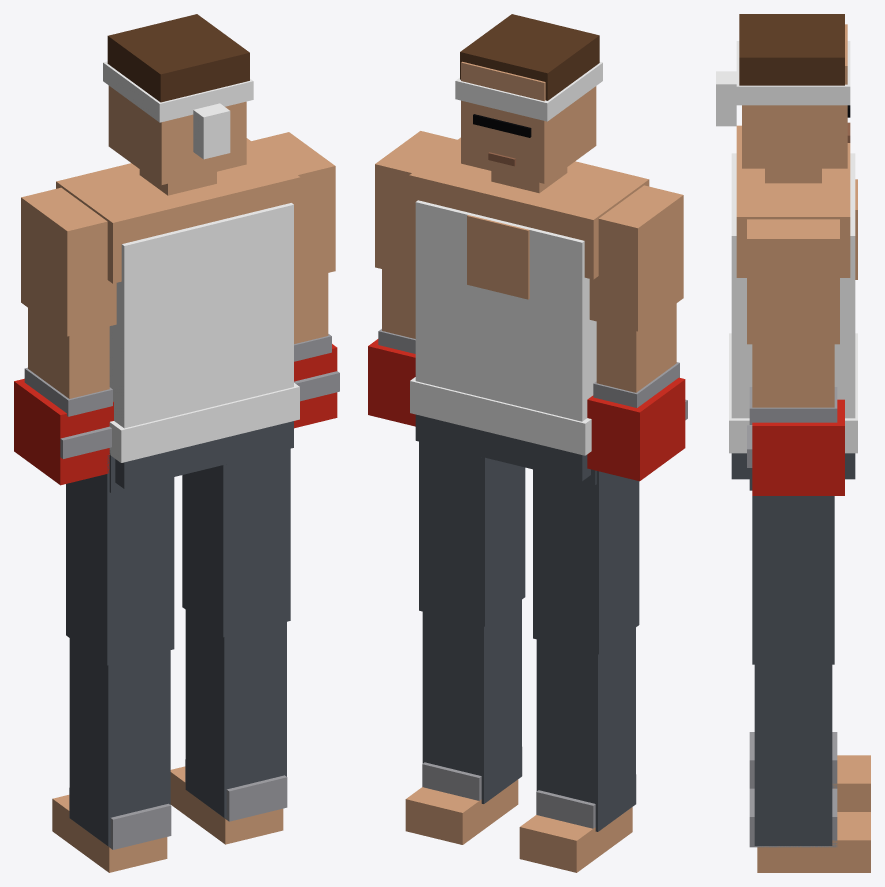
File: FIGHTER.gltf
3 views of the same model, side by side, from view 1: azimuth 30°, elevation 25°; view 2: azimuth 150°, elevation 25°; view 3: azimuth 270°, elevation 25° (orthographic).
Visible parts, largest first — view 1: FIGHTER; view 2: FIGHTER; view 3: FIGHTER.
Part boxes in pixels (bbox=[...]): FIGHTER: bbox=[14, 14, 339, 872]; FIGHTER: bbox=[368, 14, 687, 872]; FIGHTER: bbox=[716, 14, 870, 872].
Size of the model in its own units: 0.62 by 1.7 by 0.3.
